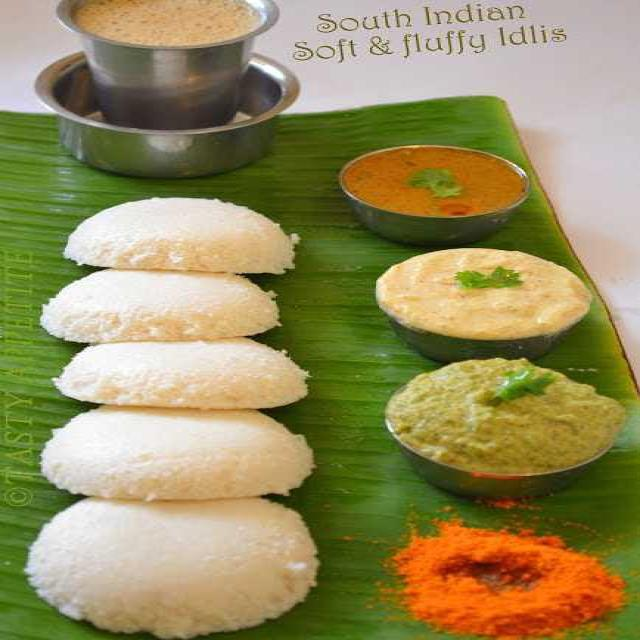Idly: (18, 492, 344, 640), (33, 398, 341, 502), (33, 262, 331, 353), (63, 184, 310, 287), (42, 340, 326, 414)
